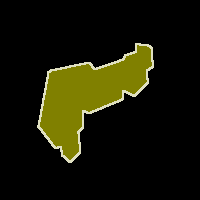tie: (38, 44, 153, 162)
